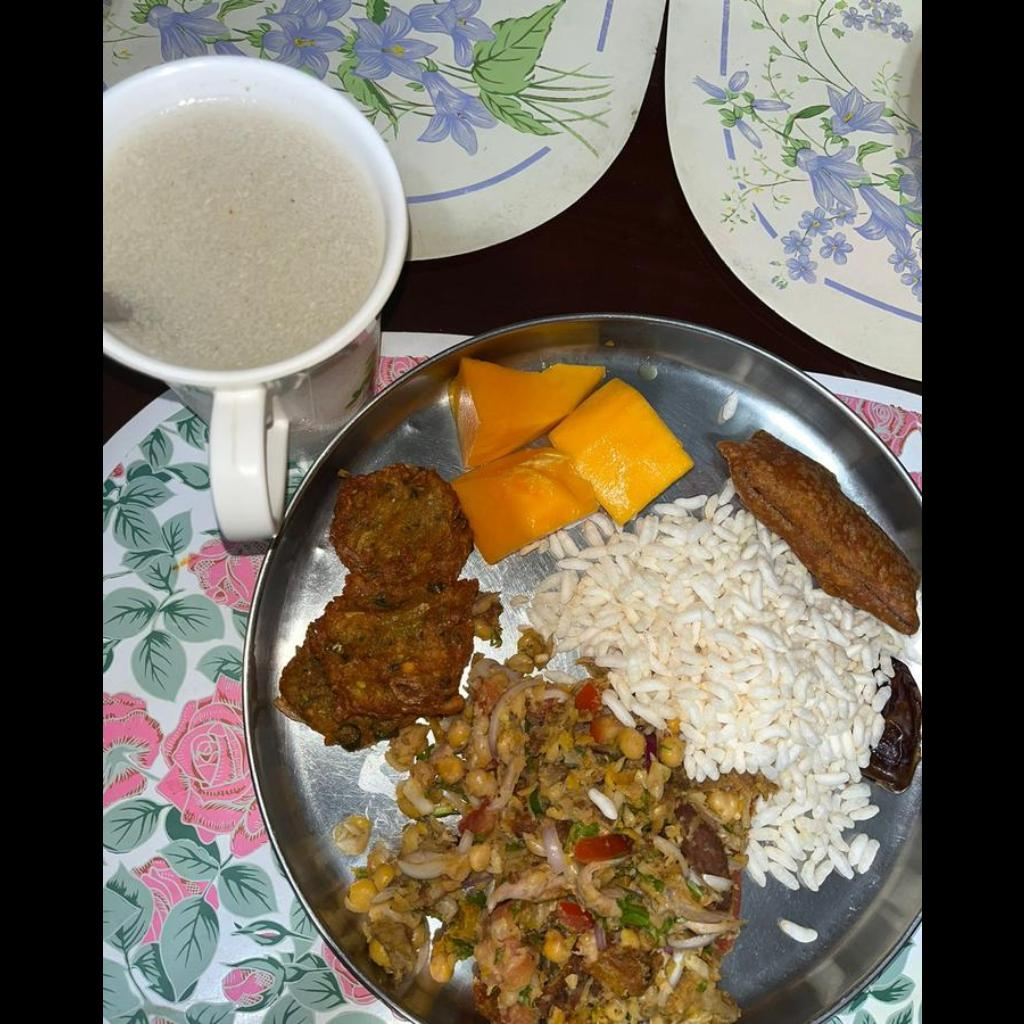beguni: (710, 436, 920, 628)
daal: (331, 628, 777, 1023)
dates: (861, 659, 920, 792)
juice: (103, 111, 378, 368)
mango: (448, 357, 690, 563)
peyaju: (264, 465, 494, 742)
puffed-rice: (534, 496, 879, 897)
